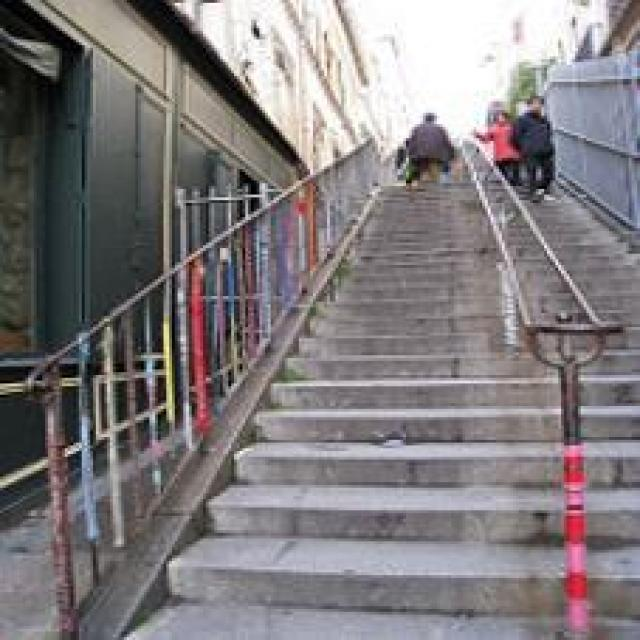upstair: (182, 368, 560, 593)
